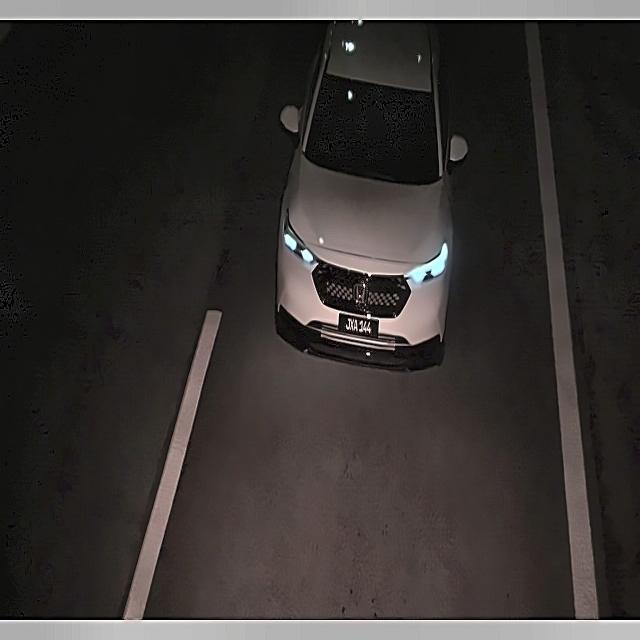car: (338, 312, 379, 344)
